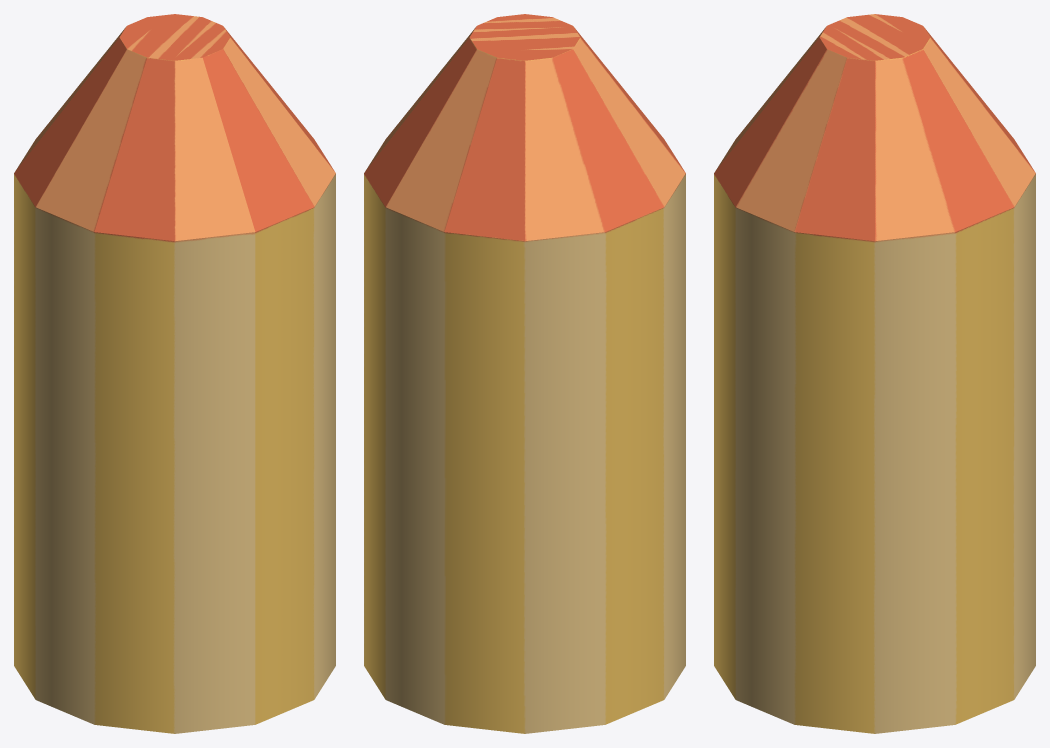
File: Bullet.fbx
3 renders of one model, left to right at view 1: azimuth 30°, elevation 25°; view 2: azimuth 150°, elevation 25°; view 3: azimuth 270°, elevation 25°, orthographic.
Visible parts, largest first — view 1: nosexd; view 2: nosexd; view 3: nosexd.
Part boxes in pixels (<box>): nosexd: <box>14,14,335,733</box>; nosexd: <box>364,14,685,733</box>; nosexd: <box>714,14,1035,733</box>.
Bounding box in the file's own units: 5.09 × 10.96 × 5.09.
Materials: 1 (1 with a texture image).
